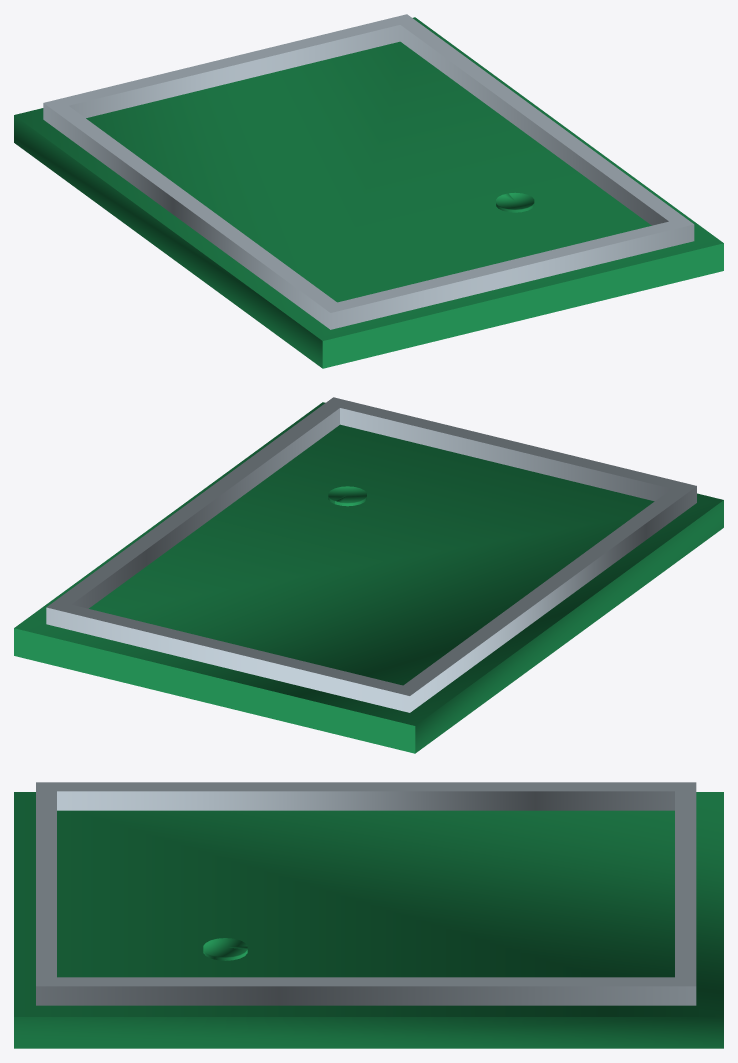
File: Level14.fbx
The picture shows the model from 3 angles, top to bottom: view 1: azimuth 30°, elevation 25°; view 2: azimuth 150°, elevation 25°; view 3: azimuth 270°, elevation 25°; orthographic projection. The views are drawn at different scales.
Visible parts, largest first — view 1: Box002, Rectangle0; view 2: Box002, Rectangle0; view 3: Box002, Rectangle0.
Boxes of the visible parts, x1,y1,x2,y2 form: Box002: (14,17,723,368); Rectangle0: (43,14,694,329); Box002: (14,402,723,753); Rectangle0: (46,397,696,712); Box002: (14,792,723,1048); Rectangle0: (36,782,696,1005).
Bounding box in the file's own units: 135 × 14.27 × 180.
